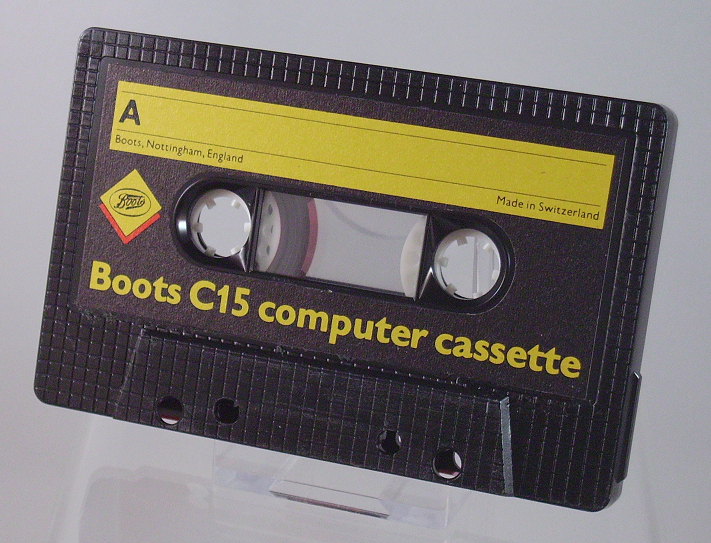Nonrec_Other: (26, 25, 676, 519)
